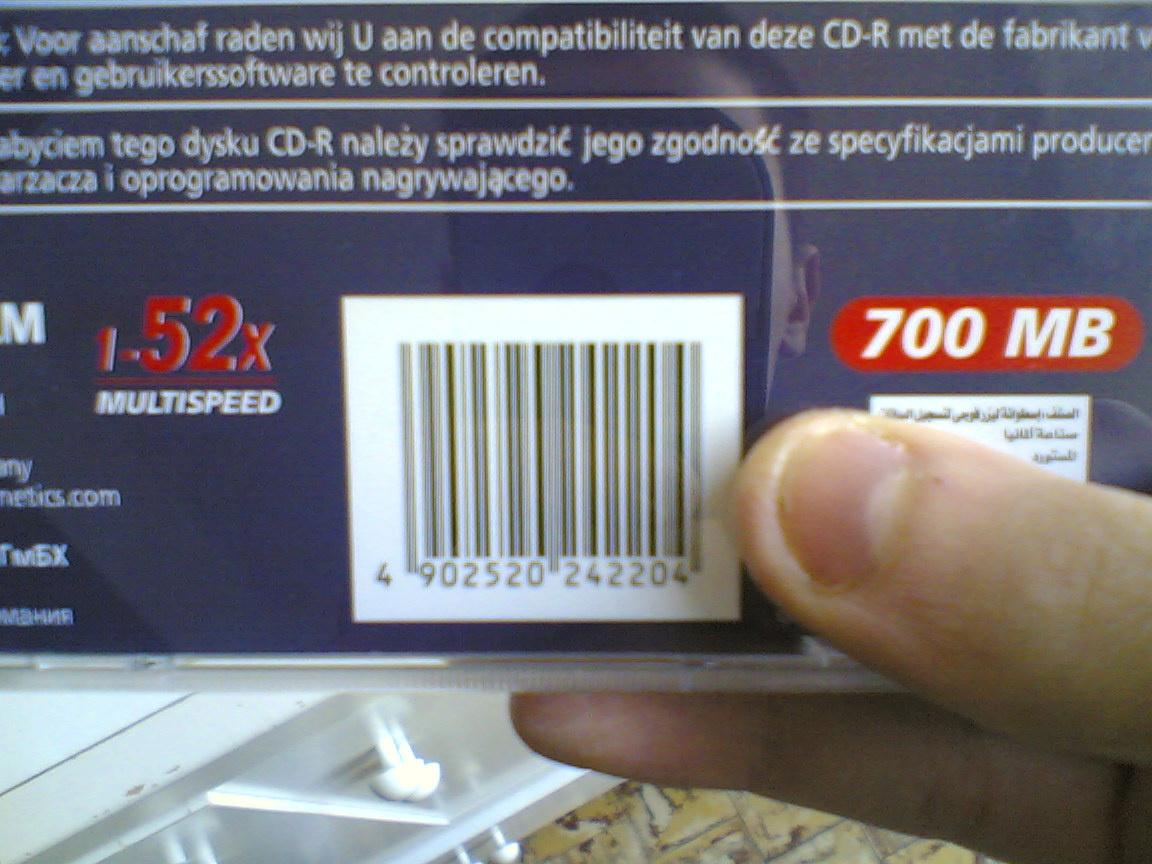Barcode: (338, 295, 743, 619)
